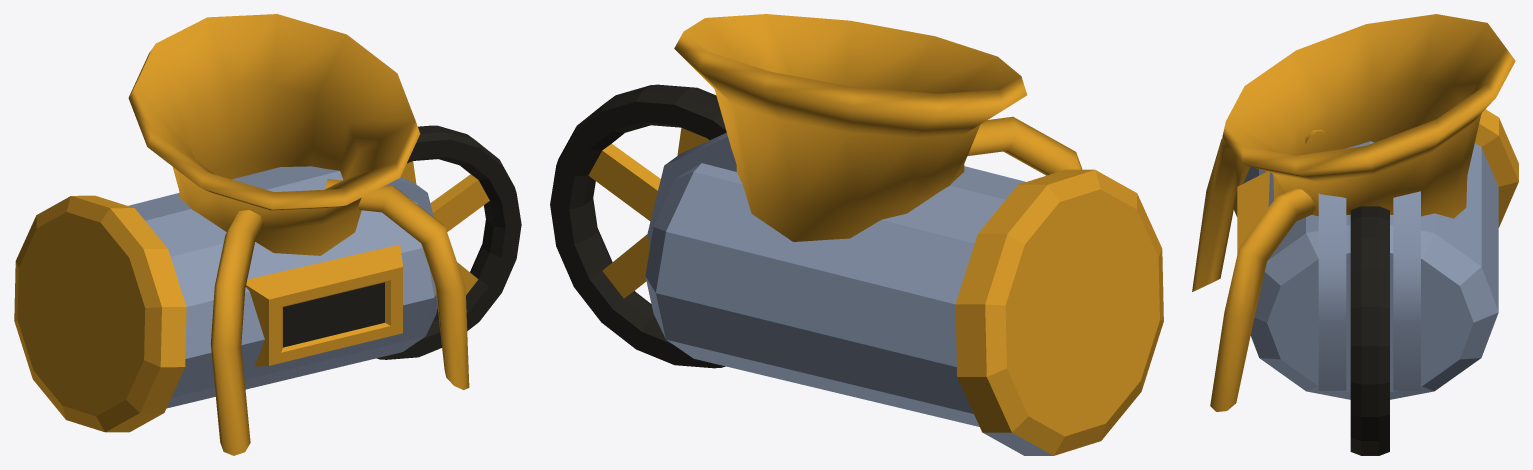
The model's file is machine.fbx.
The picture shows the model from 3 angles, left to right: view 1: azimuth 30°, elevation 25°; view 2: azimuth 150°, elevation 25°; view 3: azimuth 270°, elevation 25°; orthographic projection. The views are drawn at different scales.
Parts seen in each view (by area): view 1: pPipe5; view 2: pPipe5; view 3: pPipe5.
Part boxes in pixels (<box>): pPipe5: <box>14,14,521,455</box>; pPipe5: <box>550,14,1163,455</box>; pPipe5: <box>1192,14,1518,455</box>.
Size of the model in its own units: 72.88 by 49.33 by 44.43.
